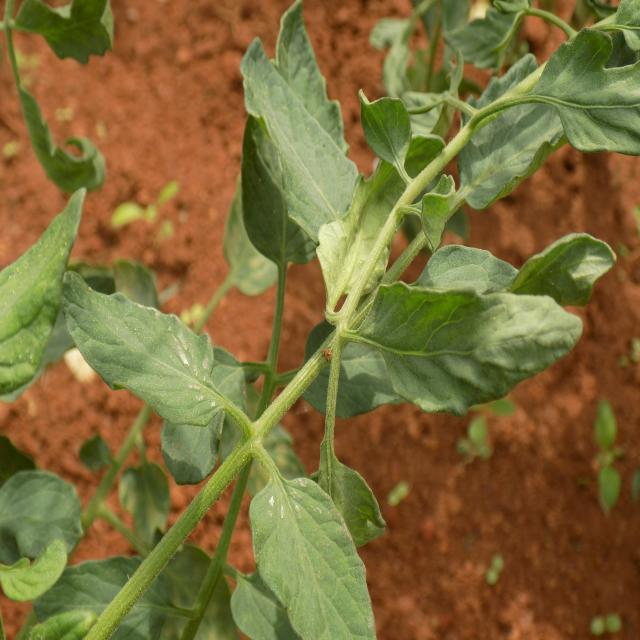tomato_healthy: (336, 279, 586, 418), (66, 267, 247, 424), (252, 470, 378, 640)
